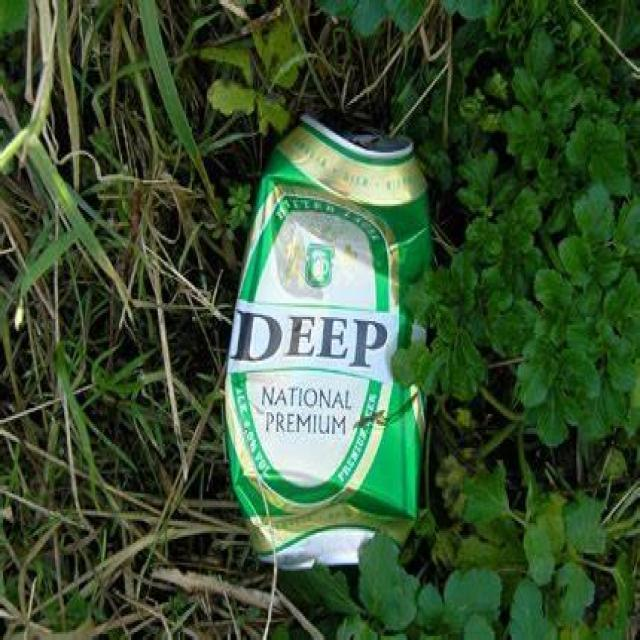can: (222, 107, 431, 571)
